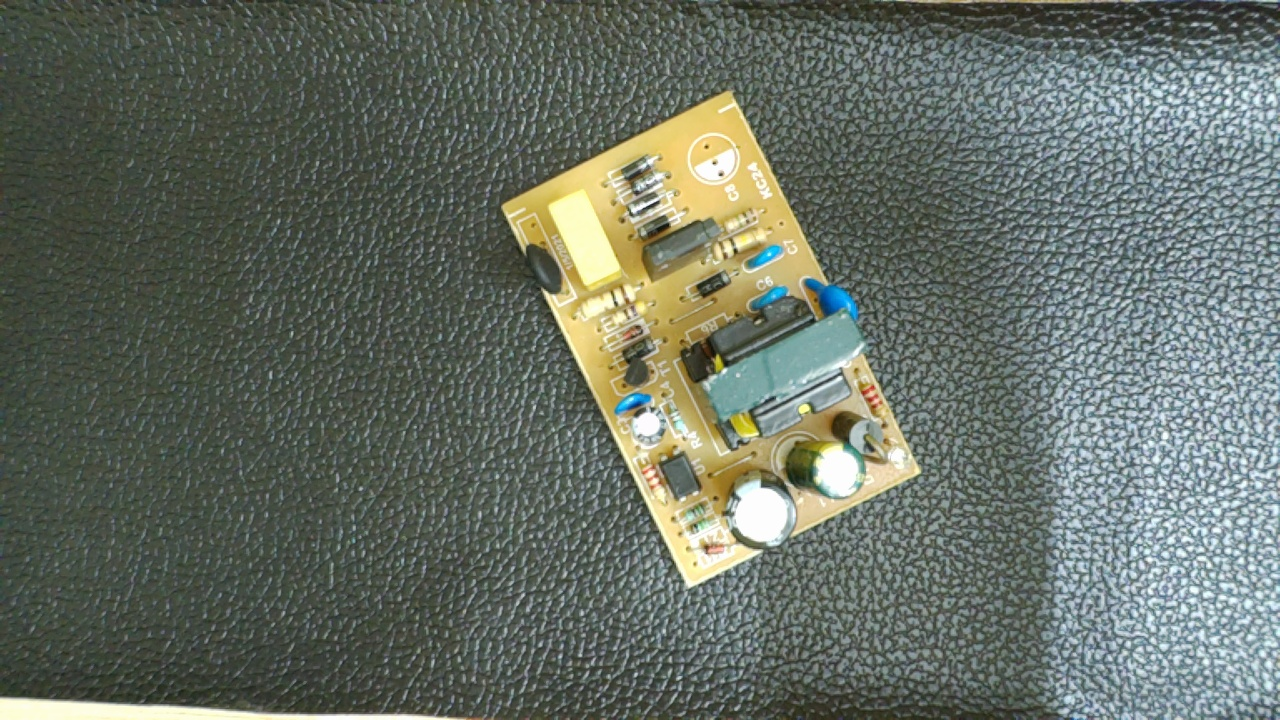fuse: (513, 239, 573, 299)
mov: (797, 276, 861, 323)
optocoupler: (651, 449, 705, 503)
